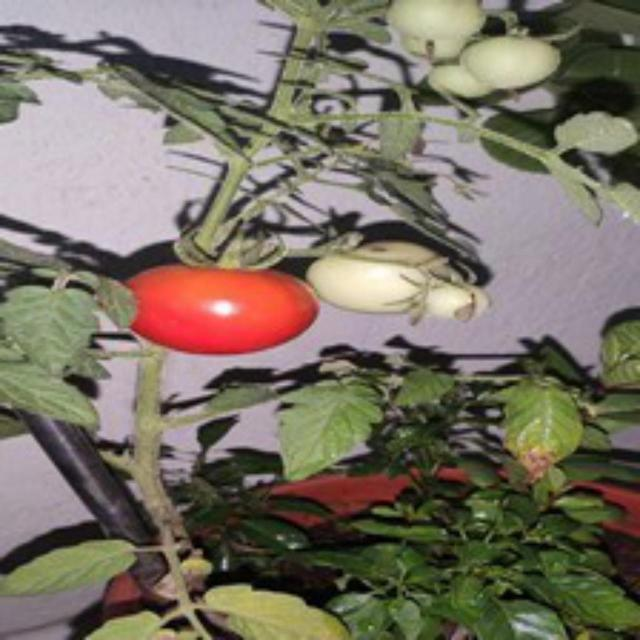tomato: (123, 240, 322, 363)
